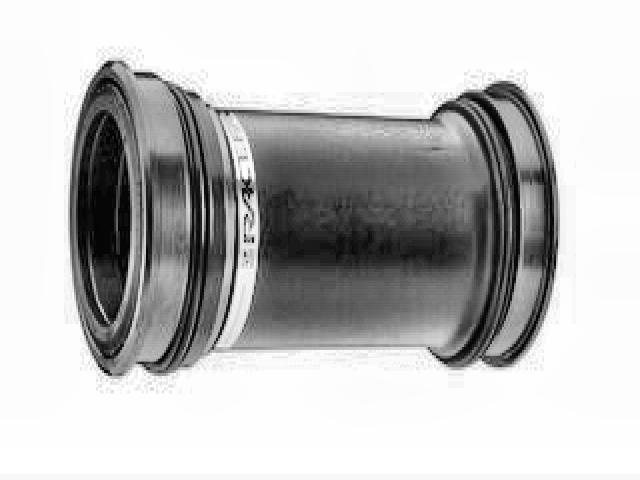bottom_bracket: (66, 52, 563, 376)
